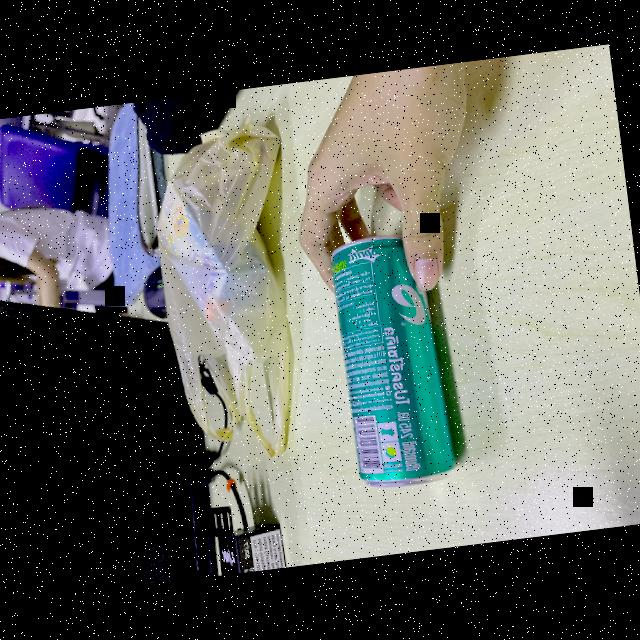can: (316, 215, 468, 506)
